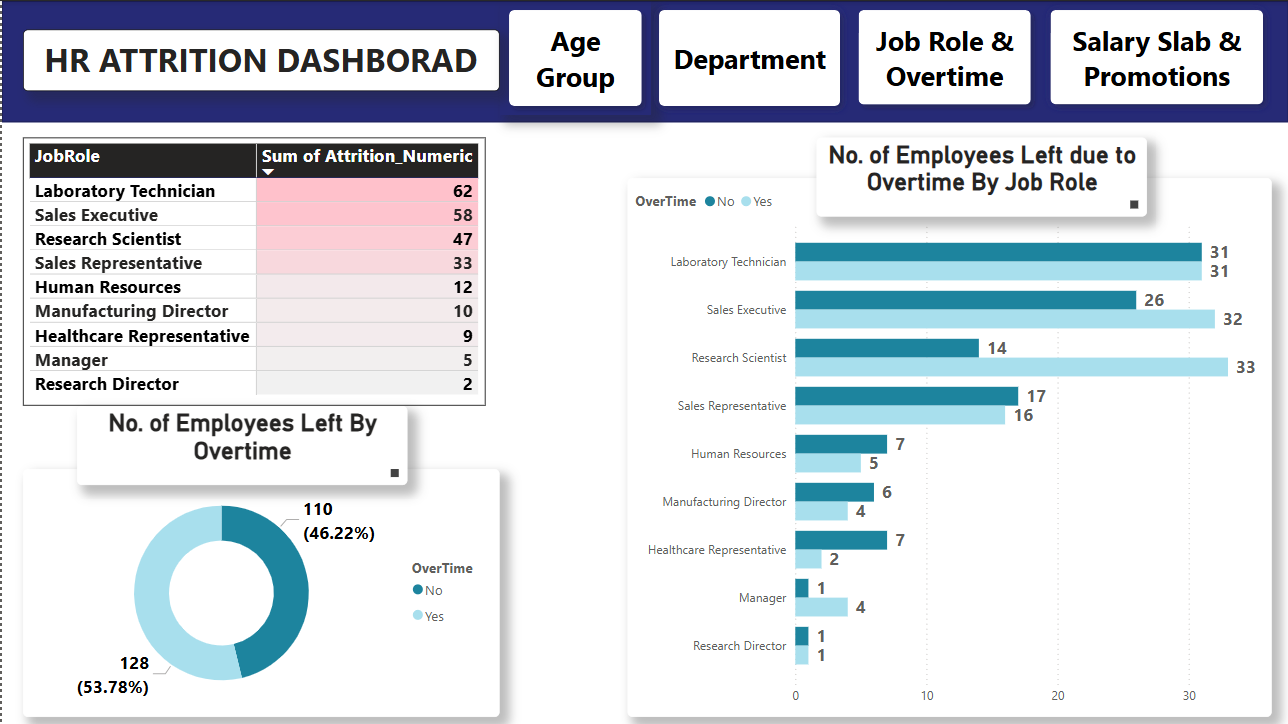

The dashboard page shown, as its layout file describes it:
{"tool":"powerbi","page":{"name":"Job Role & Overtime","canvas":[1280,720],"ordinal":2},"visuals":[{"type":"group","id":"g1","title":"Group 1","box":[0,0,1279.4,120.6],"z":0},{"type":"shape","box":[0,0,1279.4,120.6],"z":0,"group":"g1"},{"type":"textbox","title":"HR ATTRITION DASHBOARD","box":[21.2,28.9,473.7,61.6],"z":1000,"group":"g1"},{"type":"donutChart","fields":{"Category":["HR_Attrition.OverTime"],"Y":["Sum(HR_Attrition.Attrition_Numeric)"]},"box":[21.2,464.9,473.9,246.8],"z":1000},{"type":"actionButton","title":"Age Group","box":[494.9,0,150.2,113.6],"z":2000,"group":"g1"},{"type":"clusteredBarChart","fields":{"Category":["HR_Attrition.JobRole"],"Y":["Sum(HR_Attrition.Attrition_Numeric)"],"Series":["HR_Attrition.OverTime"]},"box":[622.3,175.6,640.5,536],"z":2000},{"type":"actionButton","title":"Department & Job Role","box":[645.1,0,198.4,113.6],"z":3000,"group":"g1"},{"type":"tableEx","fields":{"Values":["HR_Attrition.JobRole","Sum(HR_Attrition.Attrition_Numeric)"]},"box":[21.2,136.3,460.3,266.5],"z":3000},{"type":"actionButton","title":"Department & Job Role","box":[843.4,0,189.3,112.1],"z":4000,"group":"g1"},{"type":"textbox","title":"No. of Employees Left By Overtime","box":[74.2,402.8,328.6,78.7],"z":4000},{"type":"actionButton","title":"Department & Job Role","box":[1034.2,0,229.2,111.7],"z":5000,"group":"g1"},{"type":"textbox","title":"No. of Employees Left due to Overtime By Job Role","box":[810.1,136.3,328.6,78.7],"z":5000}]}

Visuals, with their boxes in screenshot pixels (x1, y1, x2, y2), scaled from the page's 1280x720 canvas onto the 1288x724 screenshot:
"Group 1" group: [0,0,1287,121]
shape: [0,0,1287,121]
"HR ATTRITION DASHBOARD" textbox: [21,29,498,91]
donutChart - HR_Attrition.OverTime x Sum(HR_Attrition.Attrition_Numeric): [21,467,498,716]
"Age Group" actionButton: [498,0,649,114]
clusteredBarChart - HR_Attrition.JobRole x Sum(HR_Attrition.Attrition_Numeric): [626,177,1271,716]
"Department & Job Role" actionButton: [649,0,849,114]
tableEx - HR_Attrition.JobRole x Sum(HR_Attrition.Attrition_Numeric): [21,137,485,405]
"Department & Job Role" actionButton: [849,0,1039,113]
"No. of Employees Left By Overtime" textbox: [75,405,405,484]
"Department & Job Role" actionButton: [1041,0,1271,112]
"No. of Employees Left due to Overtime By Job Role" textbox: [815,137,1146,216]
